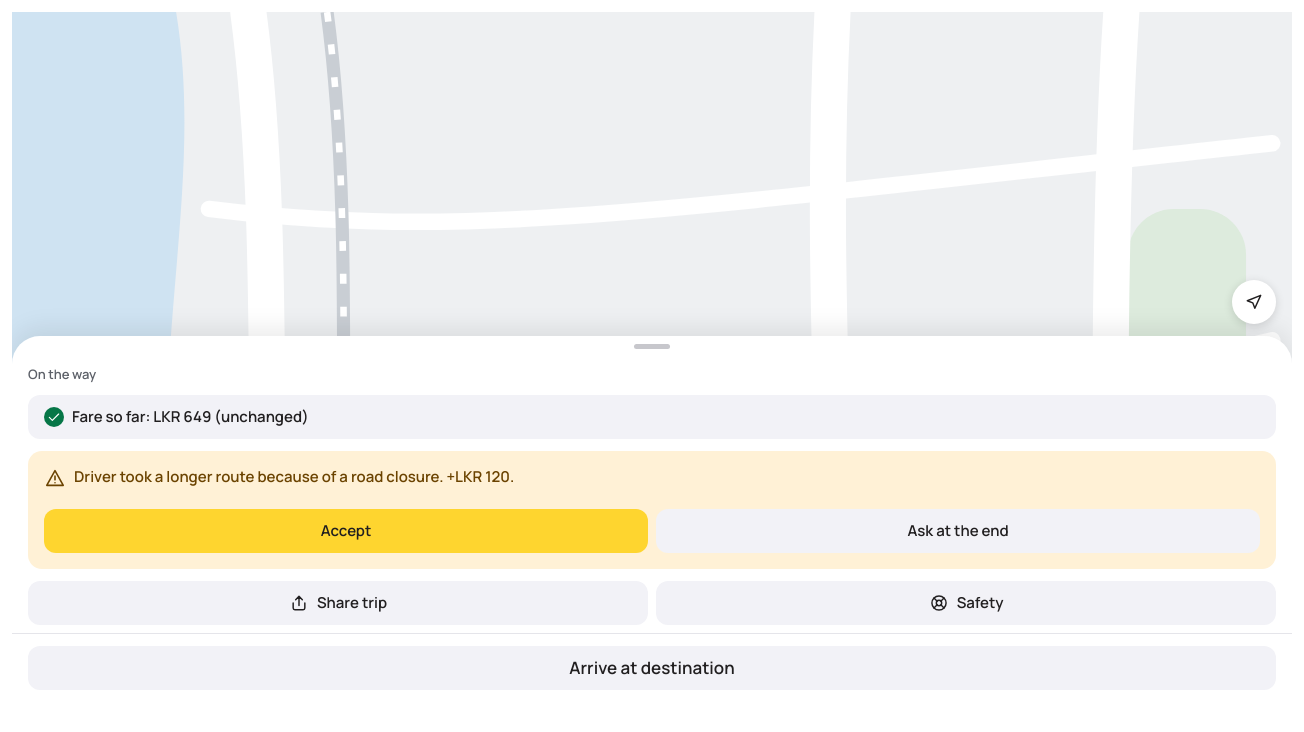
Test case: Trip › Ask at the end flags the change for the receipt
What coordinates should you click on to do the following:
click the button "Ask at the end"
I would click on:
 (958, 531)
Its box is 656,509 -> 1260,553.
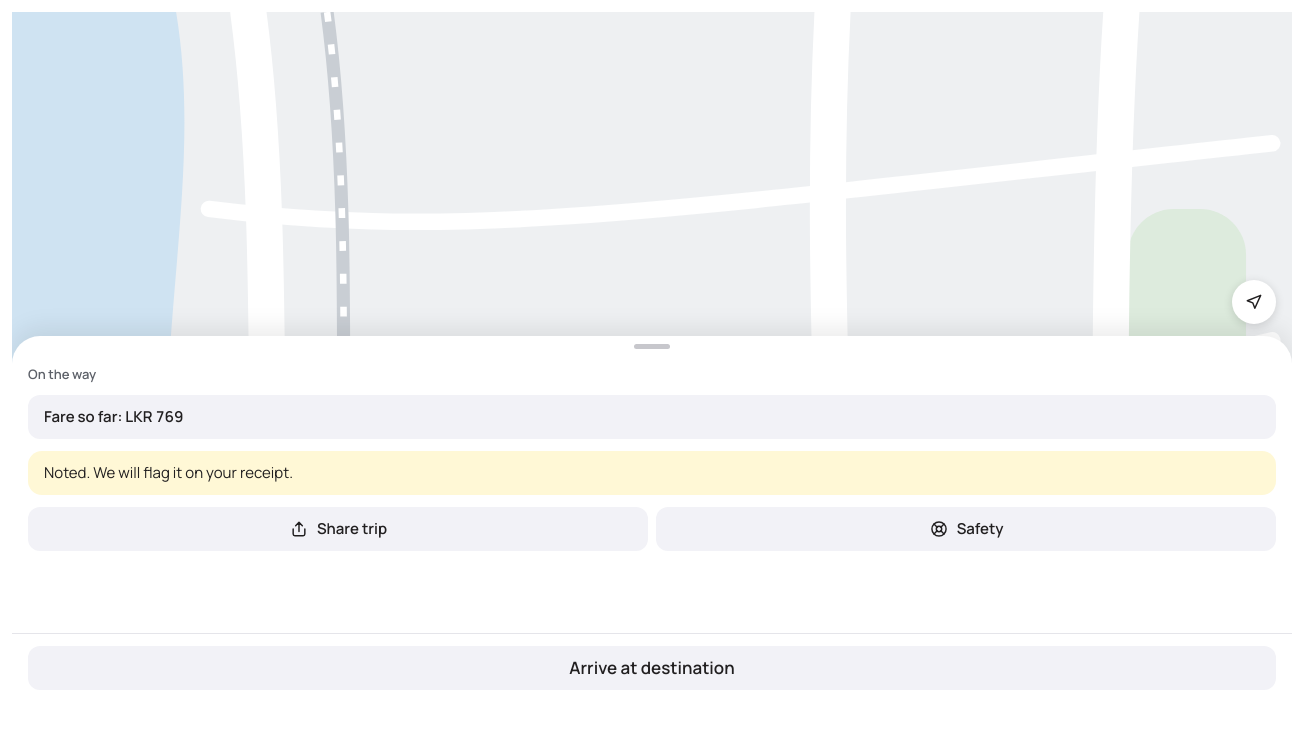
Now the text "Noted. We will flag it on your receipt." is shown, box 44,462 -> 293,483
